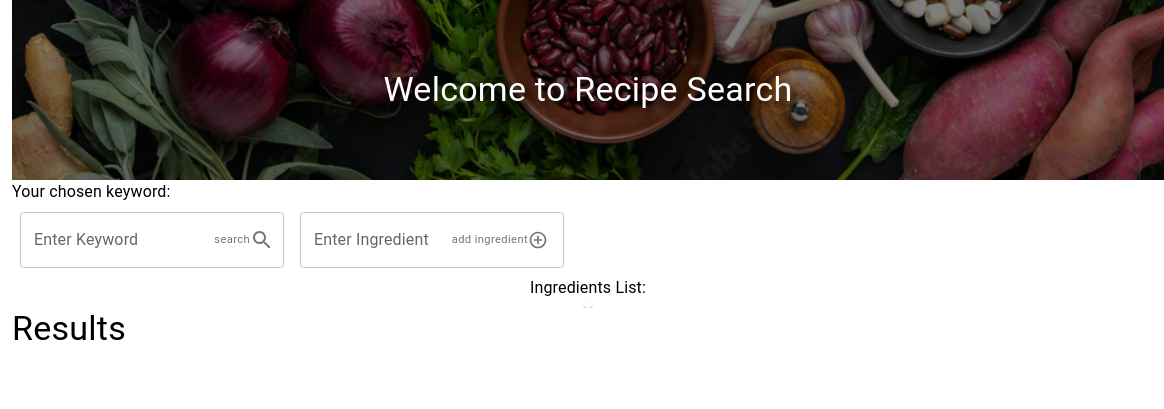
it: RecipeSearchPage component › should display error message when a duplicated ingredient is added with similar spelling
Expected: the button "add ingredient" is shown, [447, 225, 553, 255]
Type "tomatoes" into the field labelled "Enter Ingredient" at (369, 240), box [300, 212, 439, 268]
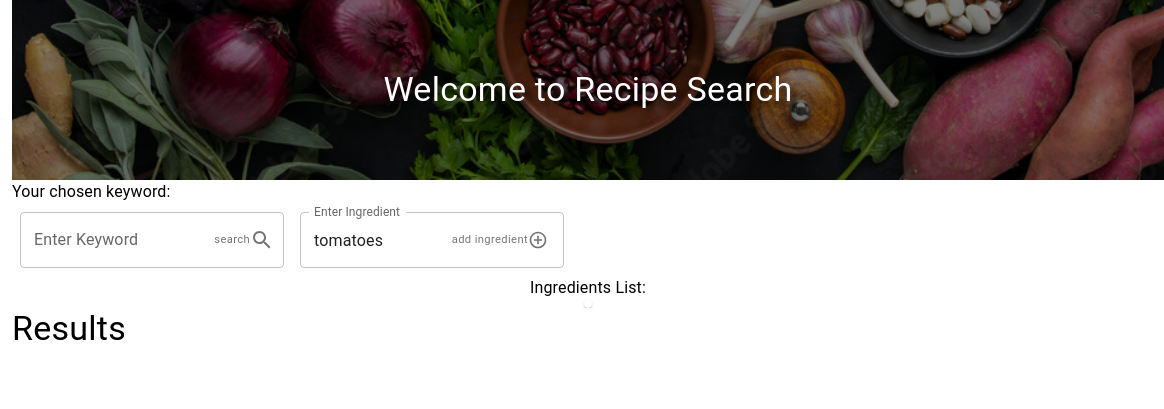
Click the button "add ingredient" at (500, 240), box [447, 225, 553, 255]
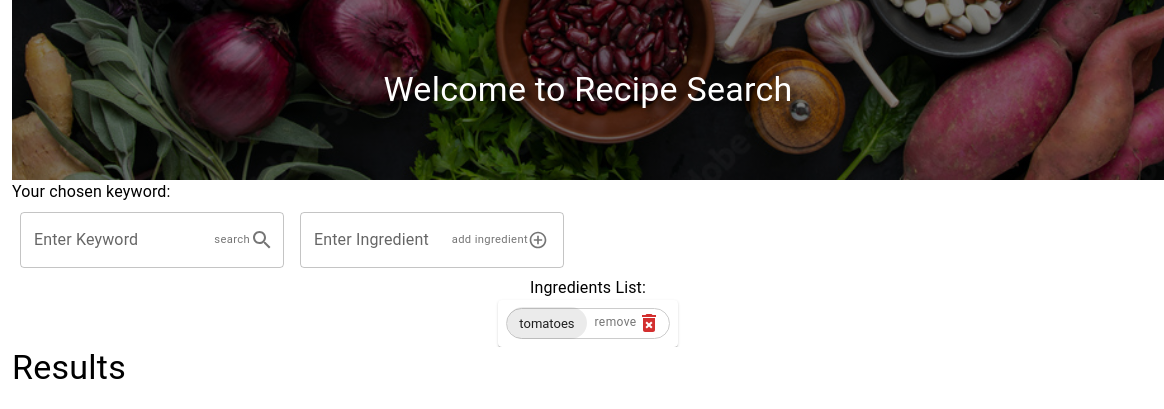
Now the element with test id "ingredients" shows "tomatoes", box [519, 316, 575, 331]
Type "tomaotoes" into the field labelled "Enter Ingredient" at (369, 240), box [300, 212, 439, 268]
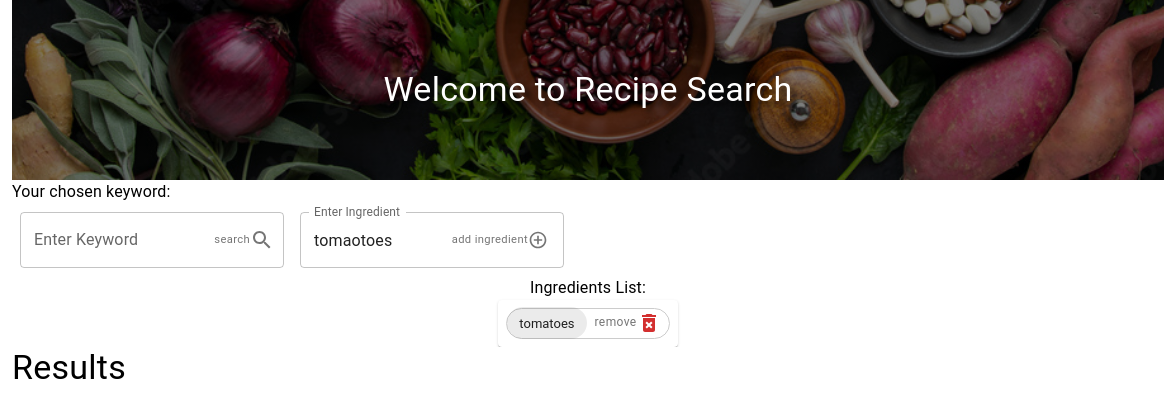
Click the button "add ingredient" at (500, 240), box [447, 225, 553, 255]
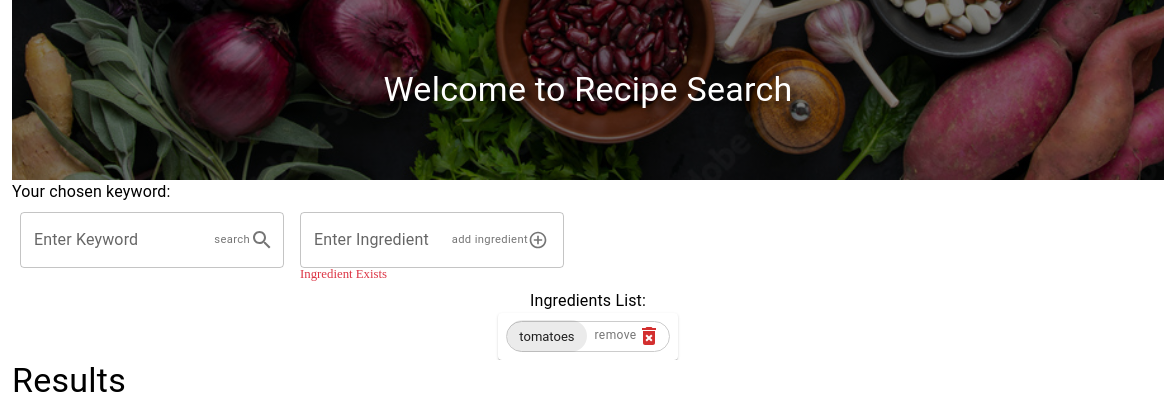
Now the text with test id "ingredient-error-text" reads "Ingredient Exists", box [300, 267, 387, 281]
Type "tomoattoes" into the field labelled "Enter Ingredient" at (369, 240), box [300, 212, 439, 268]
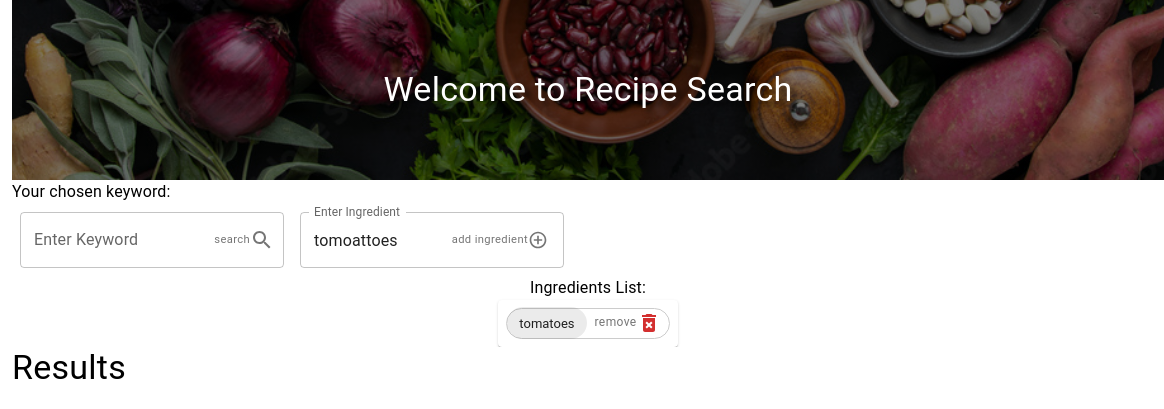
Click the button "add ingredient" at (500, 240), box [447, 225, 553, 255]
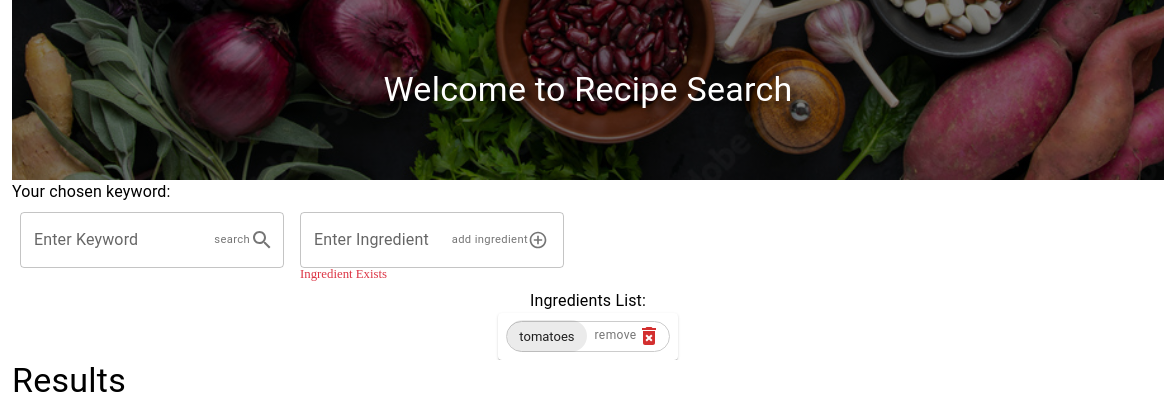
Now the text with test id "ingredient-error-text" reads "Ingredient Exists", box [300, 267, 387, 281]
